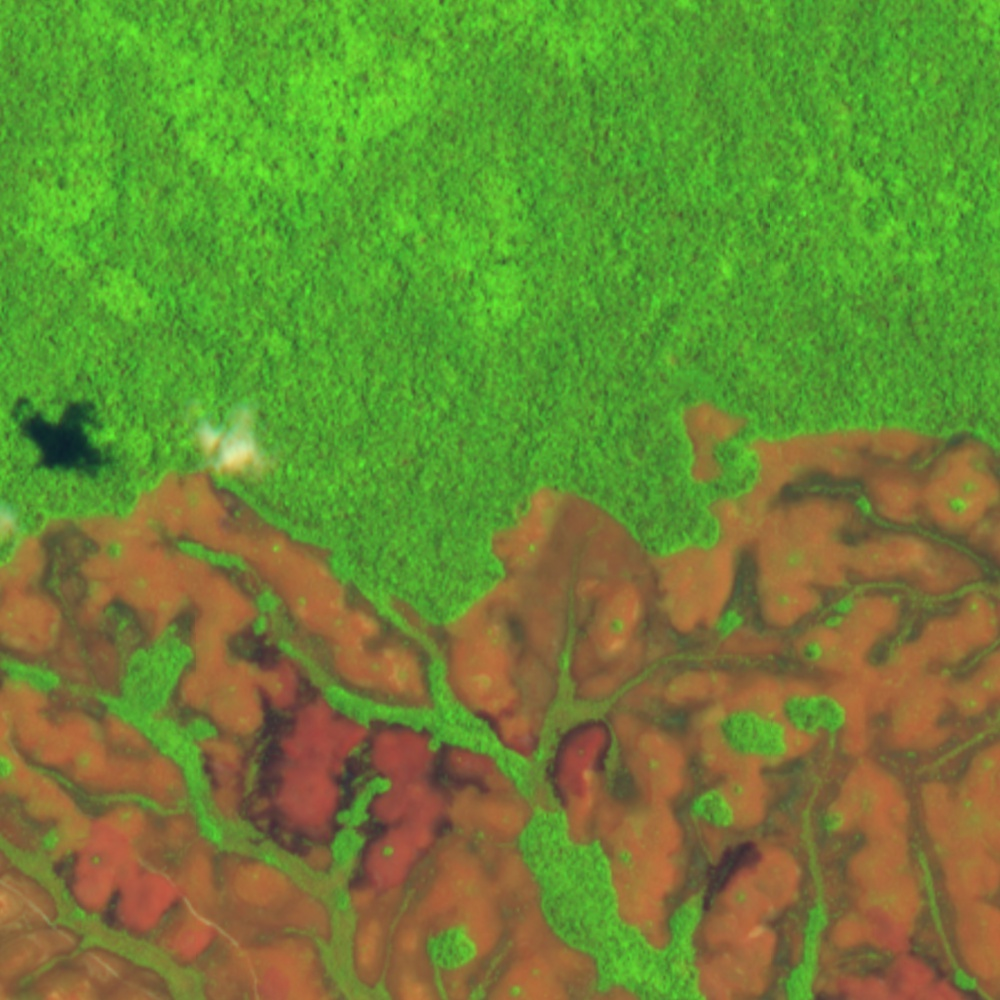legal: (1, 430, 999, 1000), (675, 403, 753, 481)
